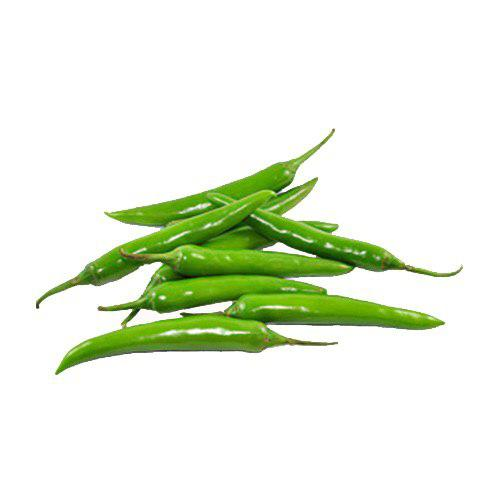lada hijau: (106, 141, 309, 229), (82, 190, 257, 292), (233, 291, 461, 351), (237, 203, 402, 285), (50, 311, 274, 365), (122, 274, 317, 318), (161, 239, 353, 282)
